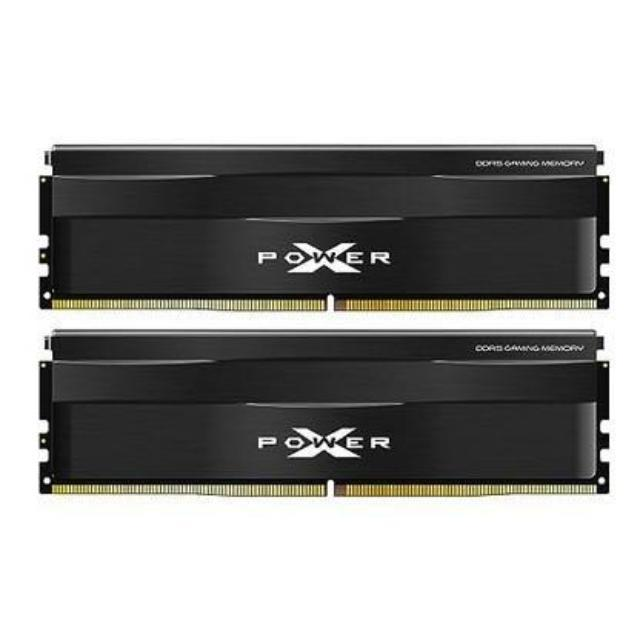RAM: (24, 116, 622, 324), (14, 326, 620, 511)
